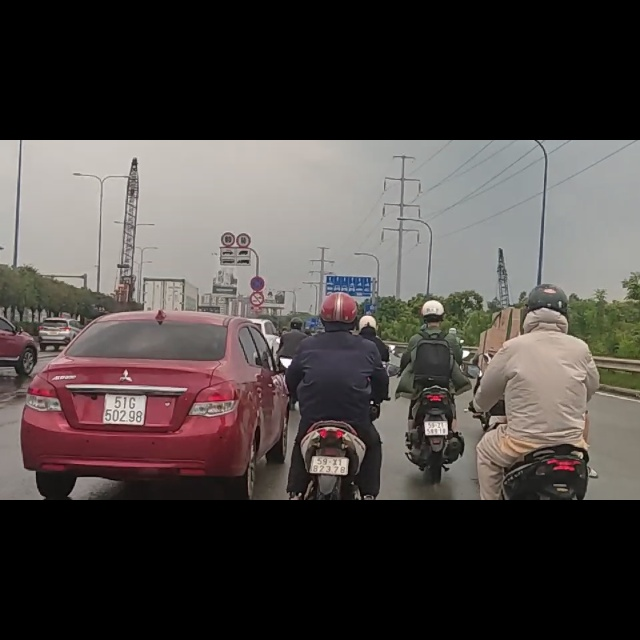bien_chi_dan: (250, 242, 265, 268)
